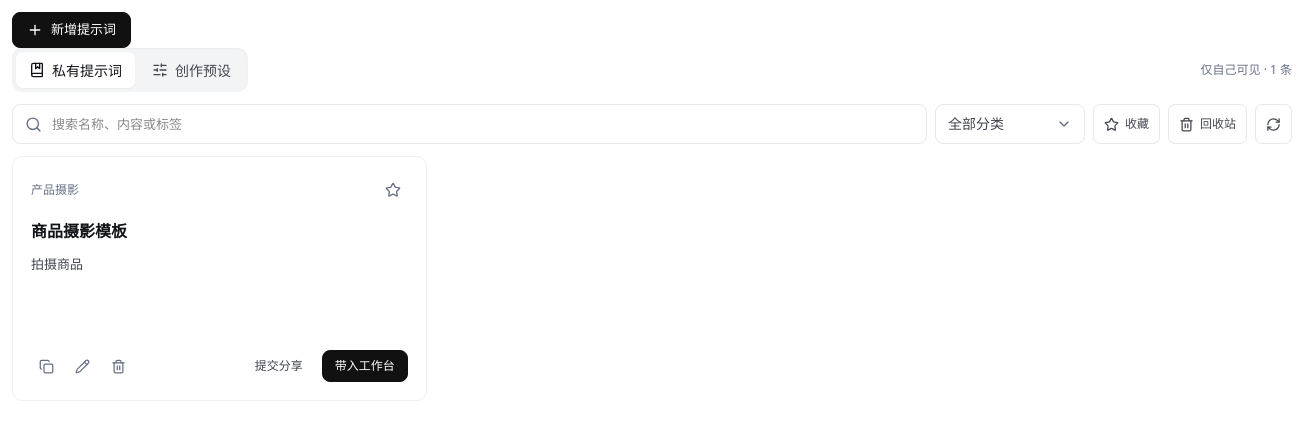
Test: keeps an error on the selected card if the account changes before bringing it to the workbench
Step 1. Click the button "带入工作台" → (365, 366), box [322, 350, 408, 382]
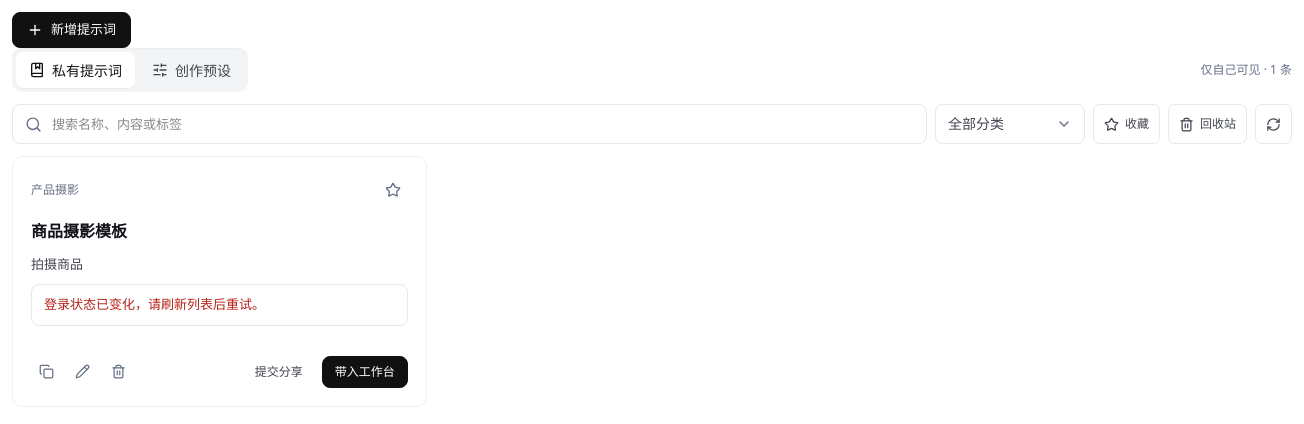
Expected: the message "登录状态已变化，请刷新列表后重试。" is shown, [31, 284, 408, 326]
